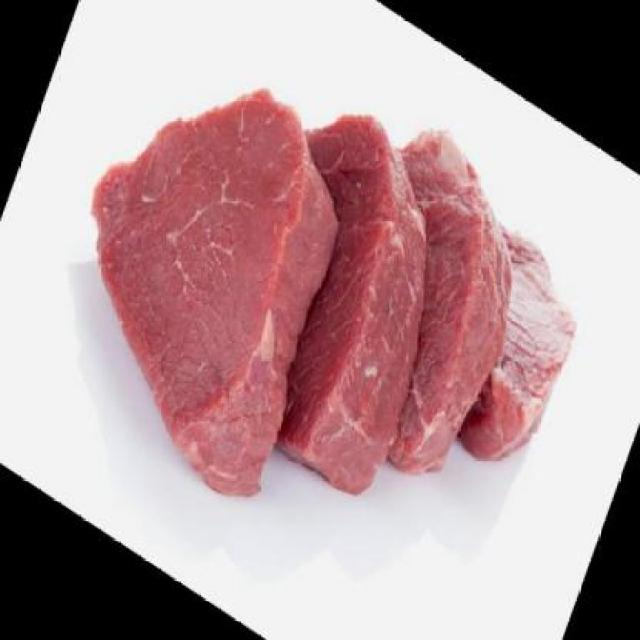beef: (102, 85, 583, 506)
